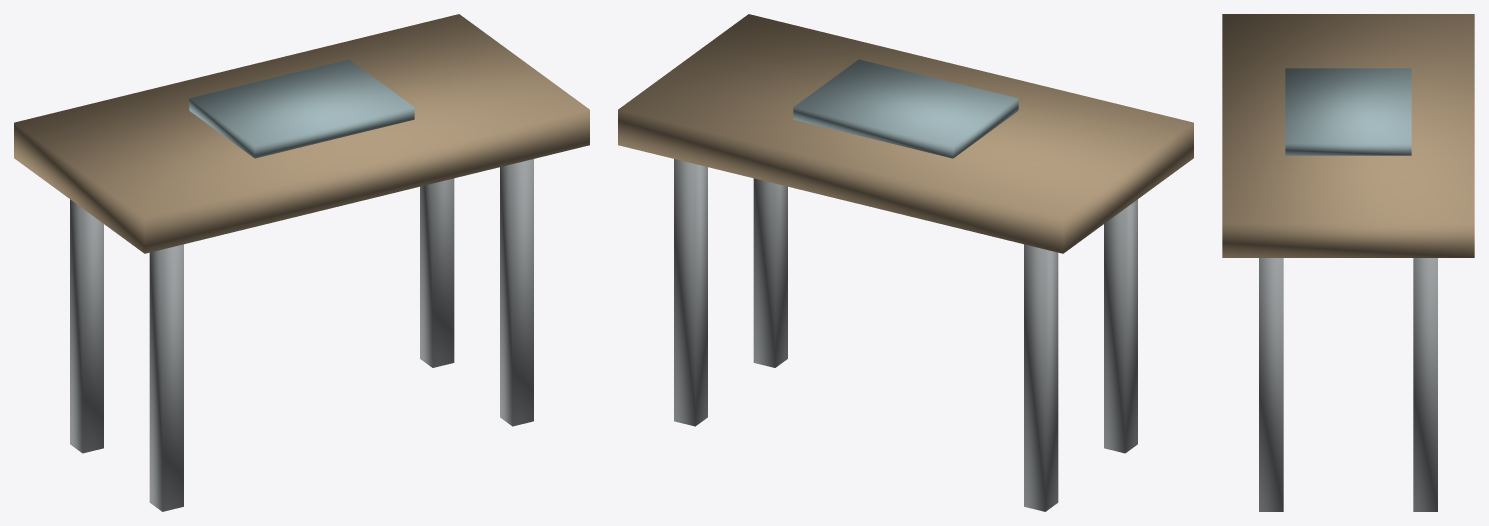
The model's file is material_inspection_table__compact.glb.
3 views of the same model, side by side, from view 1: azimuth 30°, elevation 25°; view 2: azimuth 150°, elevation 25°; view 3: azimuth 270°, elevation 25° (orthographic). The views are drawn at different scales.
Parts seen in each view (by area): view 1: world; view 2: world; view 3: world.
Part boxes in pixels (x1=…): world: x1=14, y1=14, x2=589, y2=511; world: x1=618, y1=14, x2=1193, y2=511; world: x1=1222, y1=14, x2=1474, y2=511.
Bounding box in the file's own units: 1.22 × 0.8626 × 0.6192.
